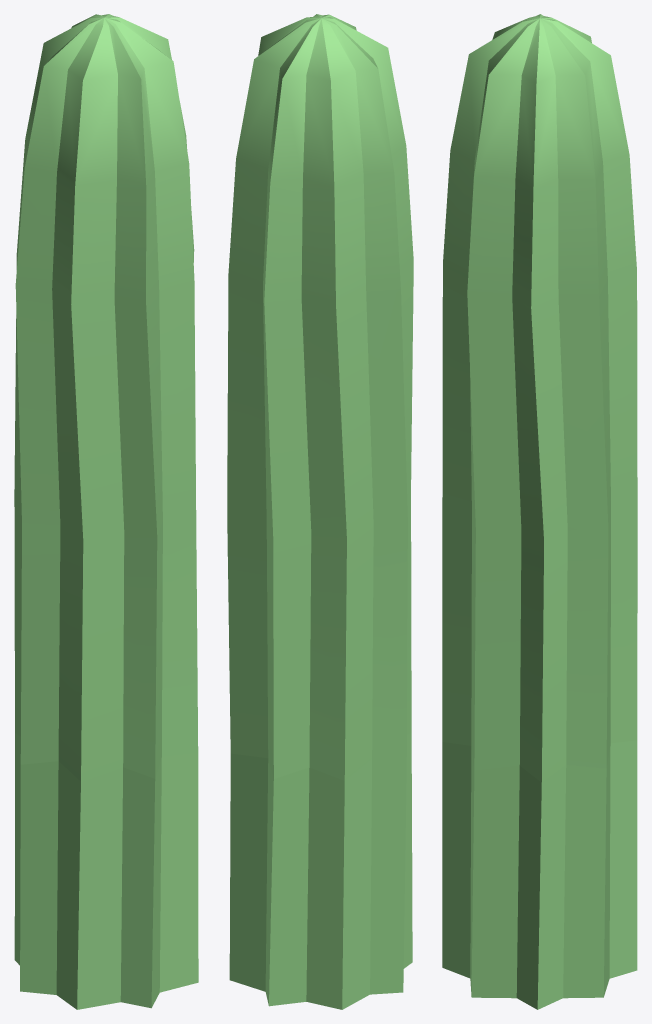
The model's file is Cactus1.fbx.
The picture shows the model from 3 angles, left to right: view 1: azimuth 30°, elevation 25°; view 2: azimuth 150°, elevation 25°; view 3: azimuth 270°, elevation 25°; orthographic projection.
Visible parts, largest first — view 1: Cactus1_Item_LOD0, Cactus1_Base_LOD0; view 2: Cactus1_Item_LOD0, Cactus1_Base_LOD0; view 3: Cactus1_Item_LOD0, Cactus1_Base_LOD0.
Part boxes in pixels (bbox=[...]): Cactus1_Item_LOD0: bbox=[14, 14, 198, 781]; Cactus1_Base_LOD0: bbox=[14, 733, 198, 1009]; Cactus1_Item_LOD0: bbox=[227, 14, 413, 780]; Cactus1_Base_LOD0: bbox=[229, 732, 412, 1009]; Cactus1_Item_LOD0: bbox=[442, 14, 637, 782]; Cactus1_Base_LOD0: bbox=[442, 740, 637, 1009].
Size of what is drawn, in the model's own units: 0.2831 by 1.51 by 0.2817.
